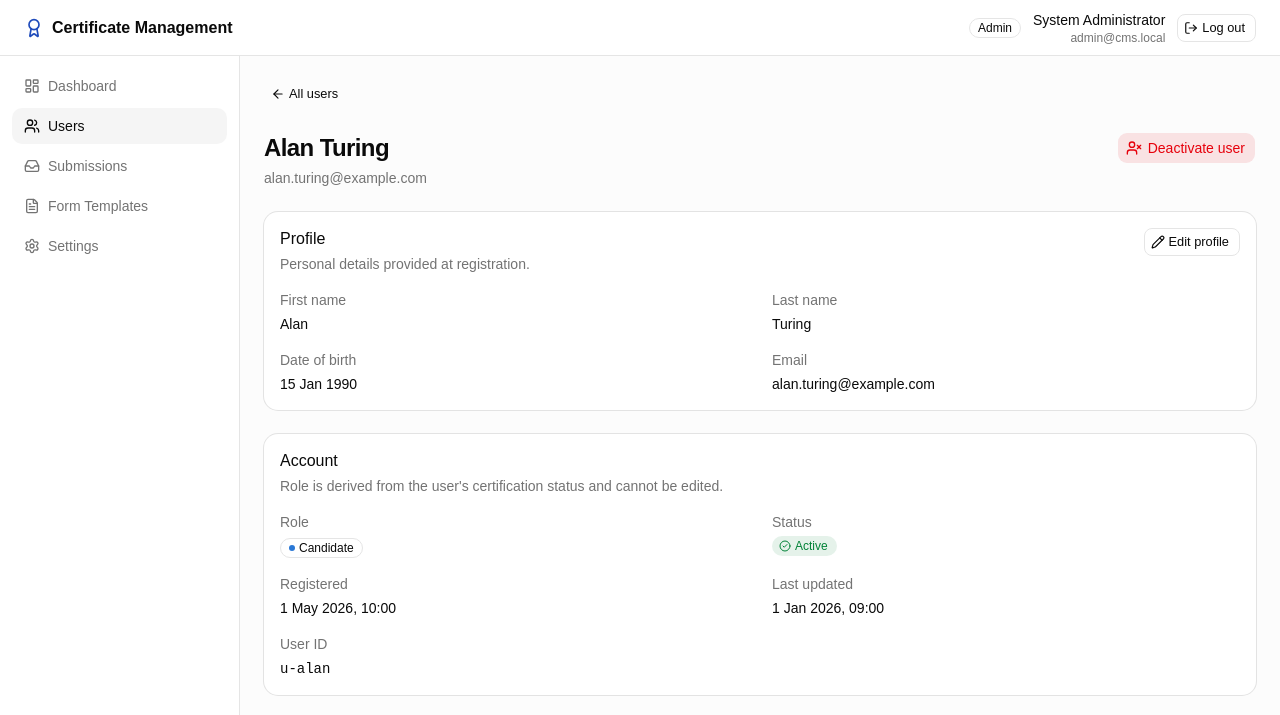
Test: user details › rejects invalid data in the form
Click the button "Edit profile" at (1192, 242), box [1144,228,1240,256]
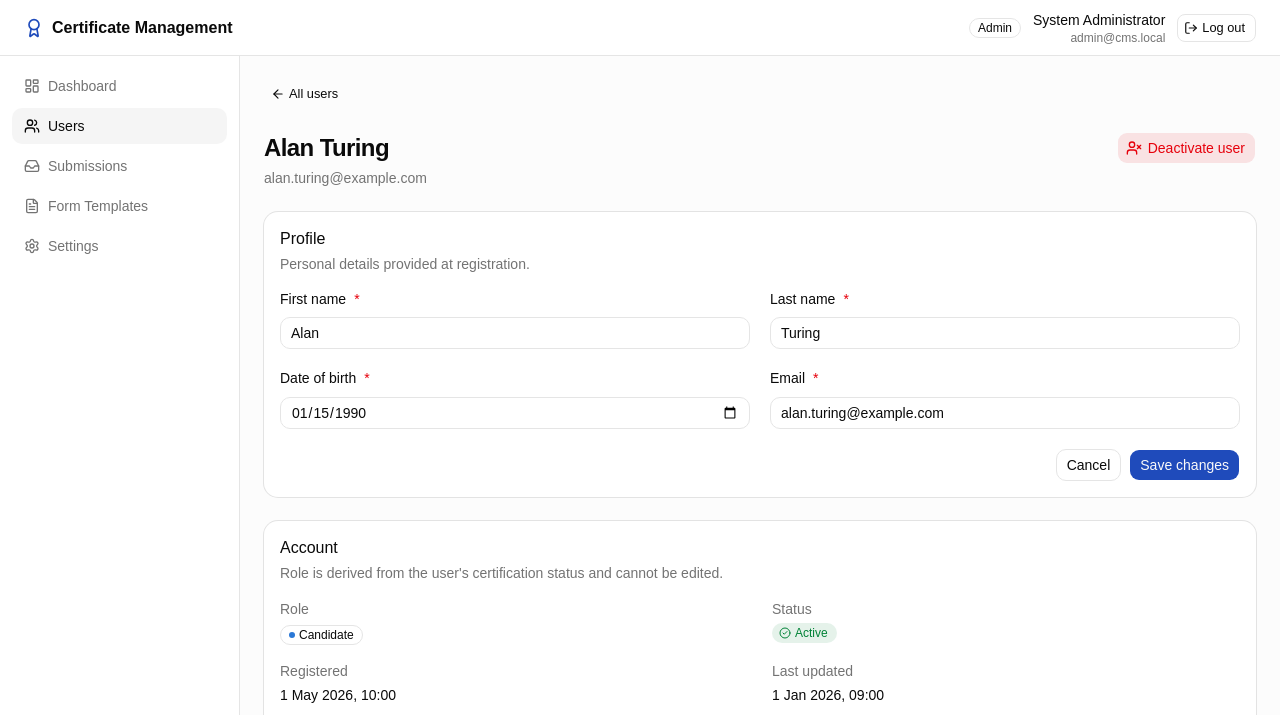
Clear the field labelled "First name *" at (515, 333), box [280,317,750,349]
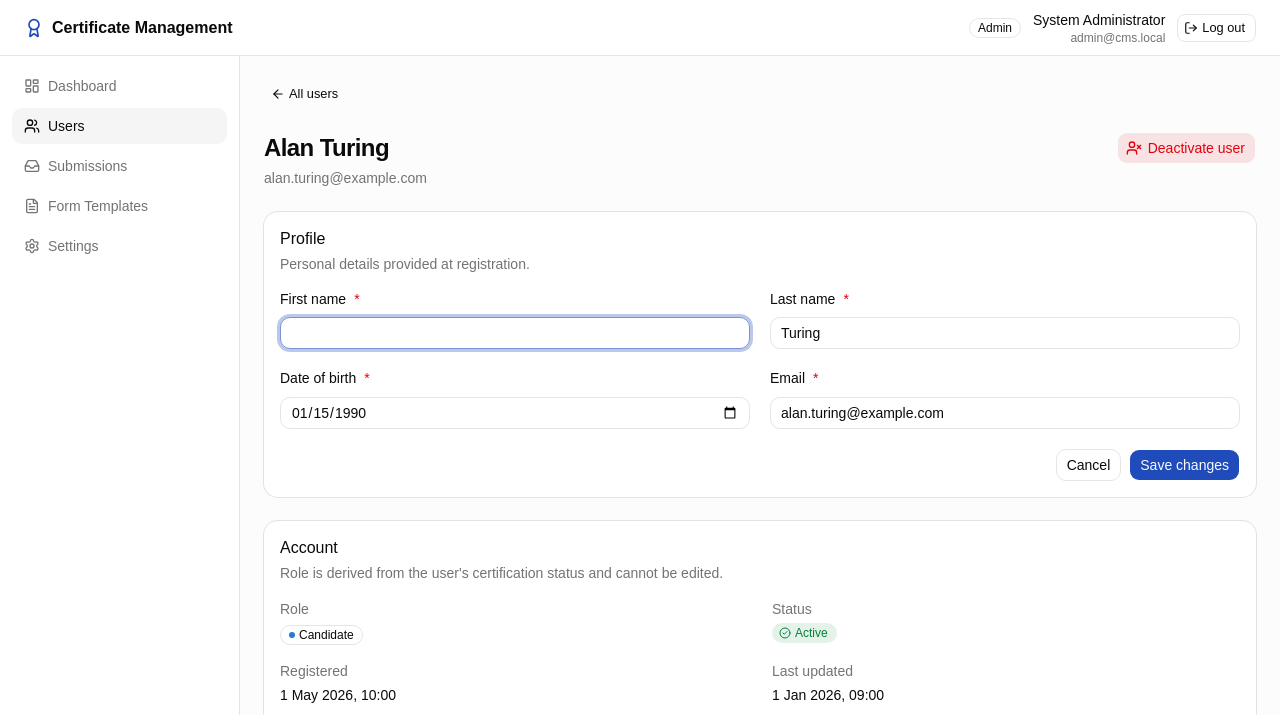
Clear the field labelled "Email *" at (1005, 412), box [770,396,1240,428]
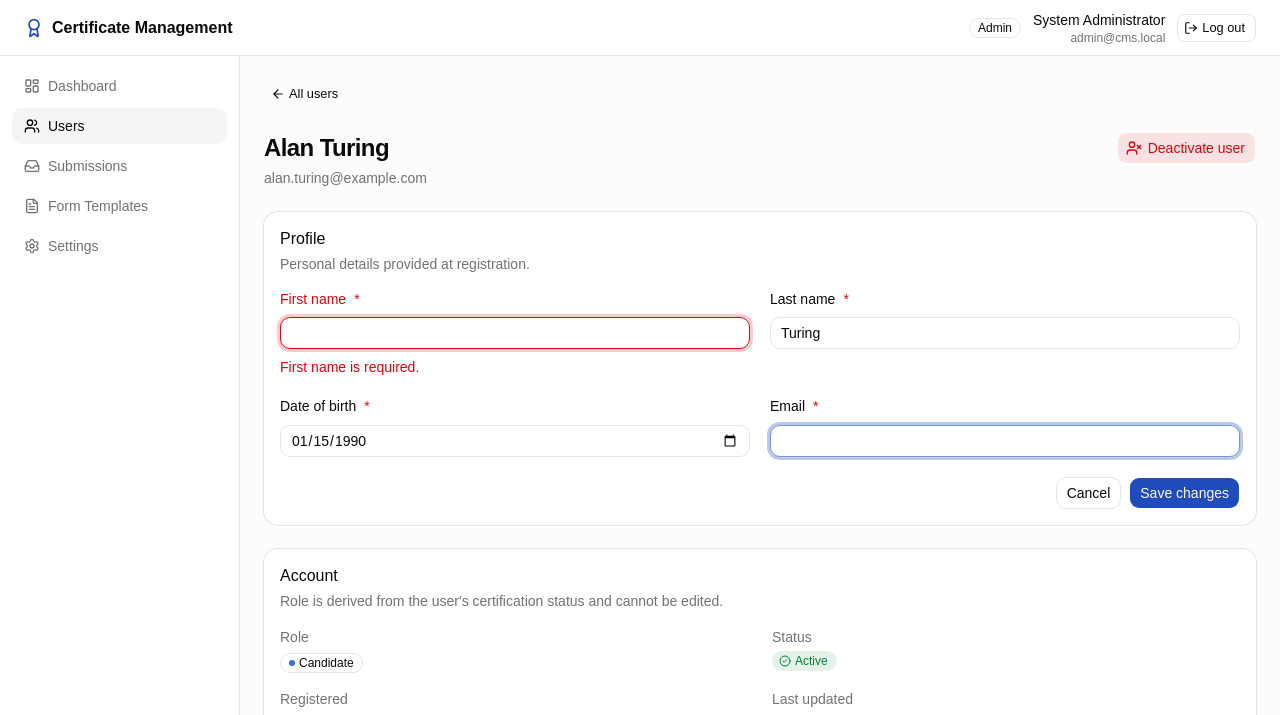
Type "not-an-email" into the field labelled "Email *" at (1005, 440), box [770,424,1240,456]
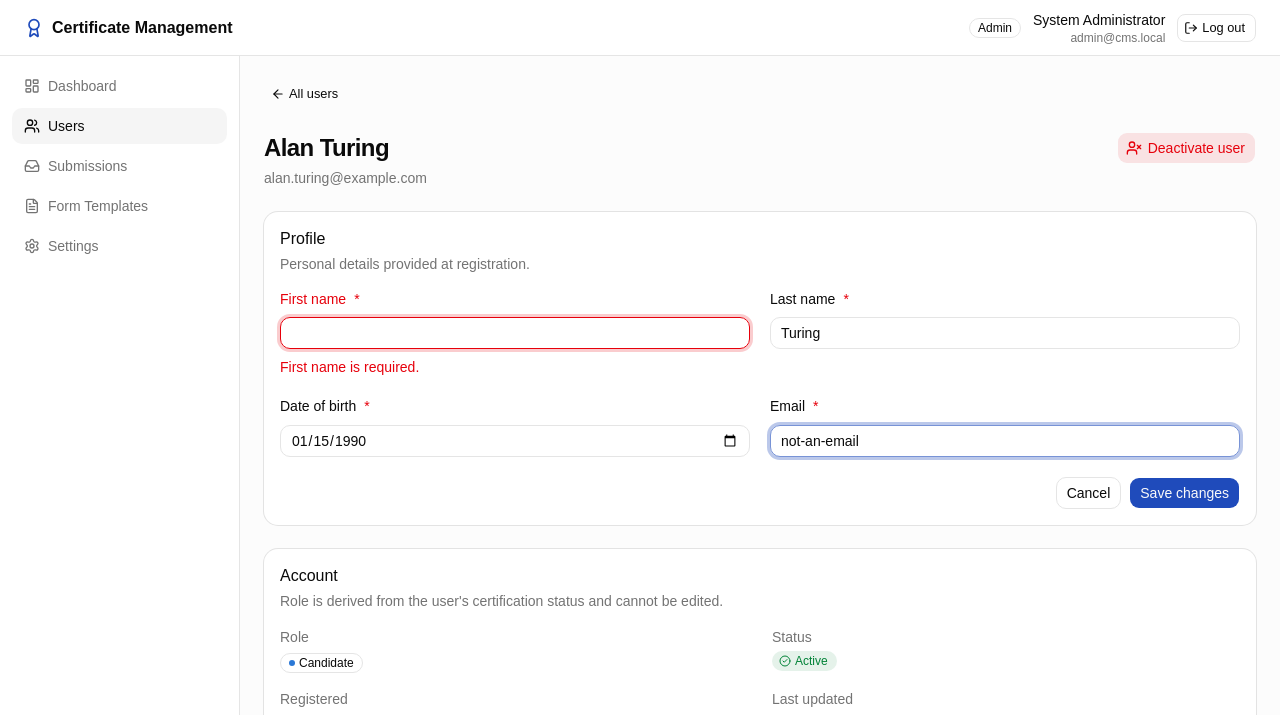
Click the button "Save changes" at (1185, 492), box [1129,476,1240,508]
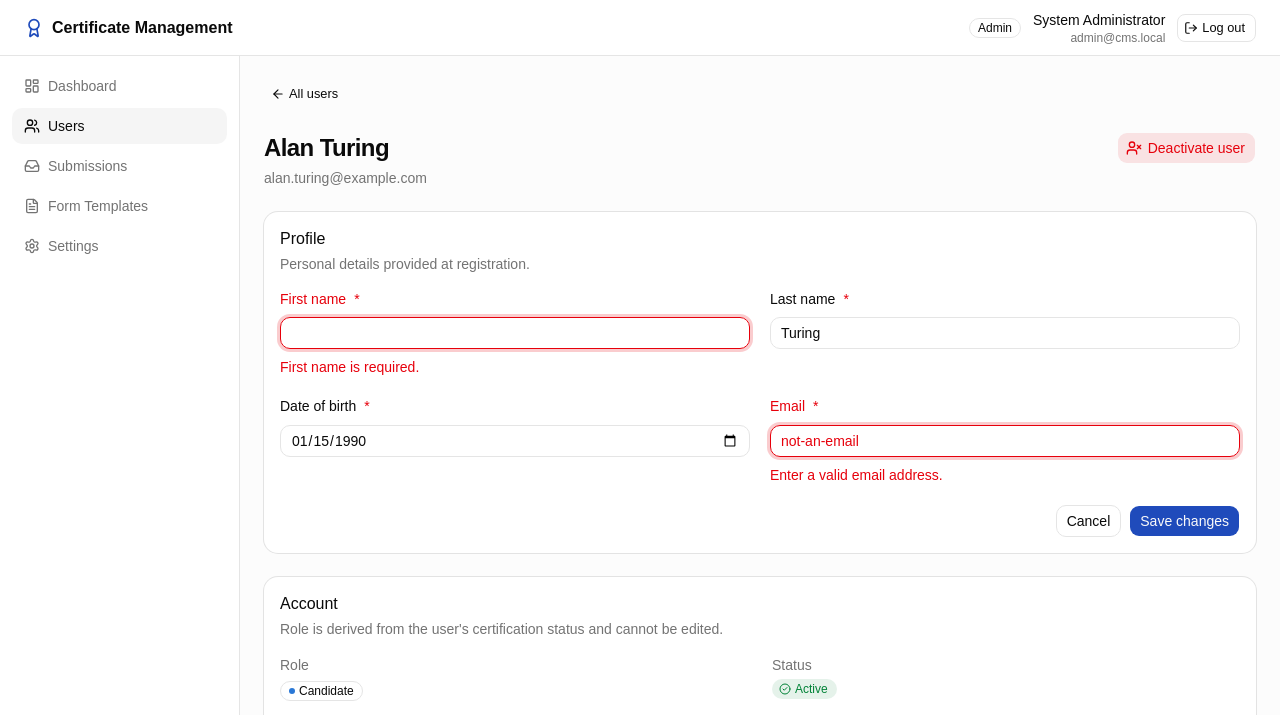
Now the text "First name is required." is shown, box [280,359,419,375]
Now the text "Enter a valid email address." is shown, box [770,466,943,482]
